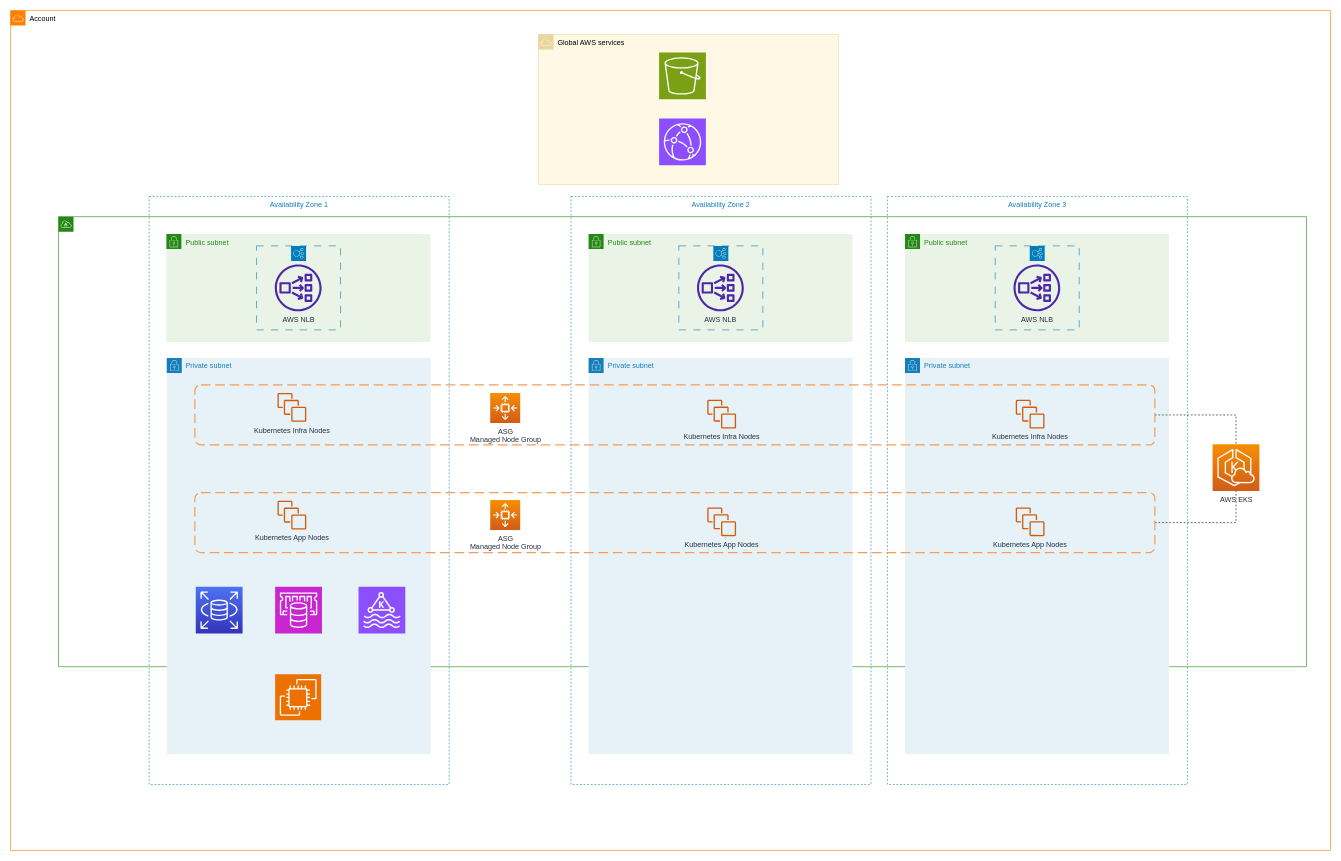
Image size: 1341x861. Some labels were removed from this diagram. Here are the shapes that lost their labels. From the top down, the box of each, then its label:
(658, 52, 706, 99): Amazon S3
(658, 118, 706, 165): Amazon CloudFront
(58, 216, 1306, 667): dev-vpc
(195, 586, 243, 634): AWS RDS PostgreSQL
(275, 586, 322, 634): Amazon ElastiCache
(358, 586, 405, 634): AWS MSK
(275, 674, 321, 720): Amazon EC2 Keycloak
